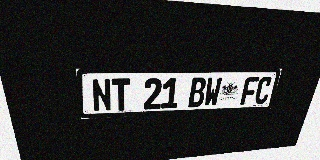1: (161, 78, 179, 109)
2: (144, 78, 162, 110)
B: (188, 77, 207, 107)
C: (253, 77, 273, 104)
F: (240, 77, 260, 105)
N: (91, 79, 112, 112)
T: (111, 78, 130, 111)
W: (203, 77, 222, 107)
